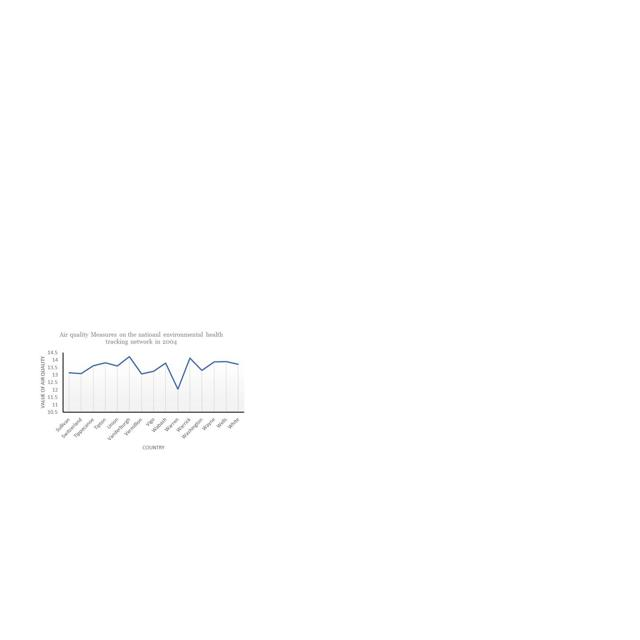Graph: (35, 327, 249, 455)
